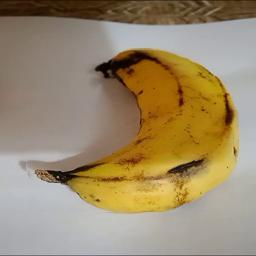Banana Semifresh: (19, 48, 239, 213)
